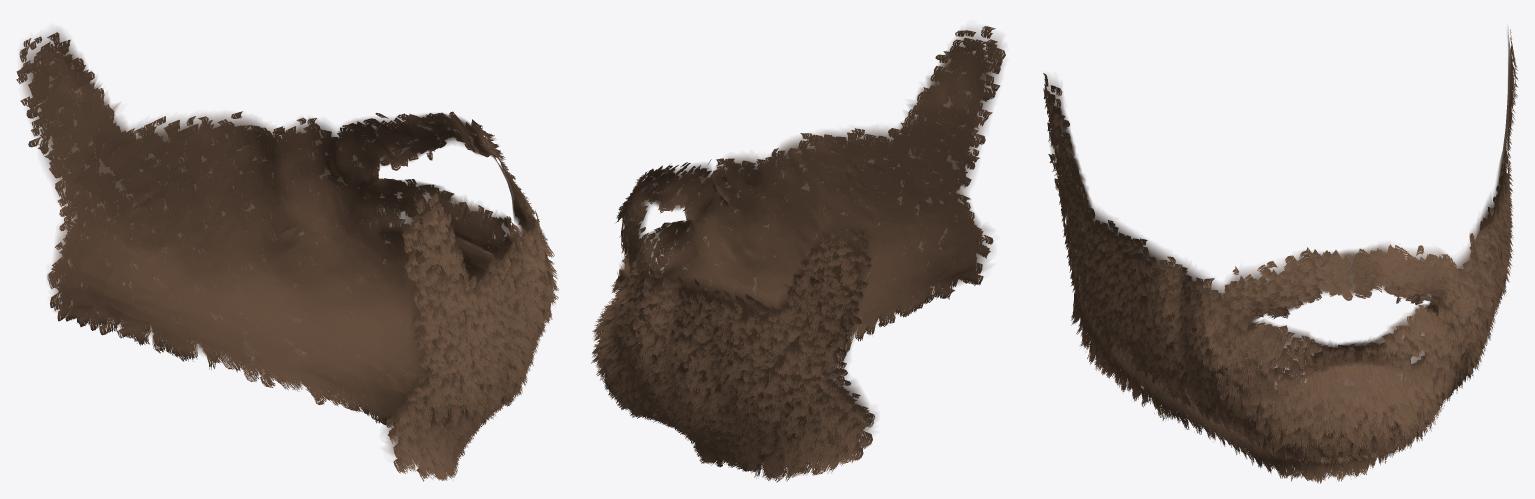
Rendered from beard-m2-boxed.glb.
3 renders of one model, left to right at view 1: azimuth 30°, elevation 25°; view 2: azimuth 150°, elevation 25°; view 3: azimuth 270°, elevation 25°, orthographic. The views are drawn at different scales.
Visible parts, largest first — view 1: Beard_m2_boxed_root, Beard_m2_boxed_cards; view 2: Beard_m2_boxed_cards, Beard_m2_boxed_root; view 3: Beard_m2_boxed_cards, Beard_m2_boxed_root.
Boxes of the visible parts, <box> form: Beard_m2_boxed_root: <box>21,29,549,460</box>; Beard_m2_boxed_cards: <box>16,32,558,481</box>; Beard_m2_boxed_cards: <box>591,26,1005,482</box>; Beard_m2_boxed_root: <box>606,28,1003,448</box>; Beard_m2_boxed_cards: <box>1043,29,1518,483</box>; Beard_m2_boxed_root: <box>1046,28,1512,448</box>.
Size of the model in its own units: 0.1349 by 0.1293 by 0.1574.
2 materials, 1 textured.
